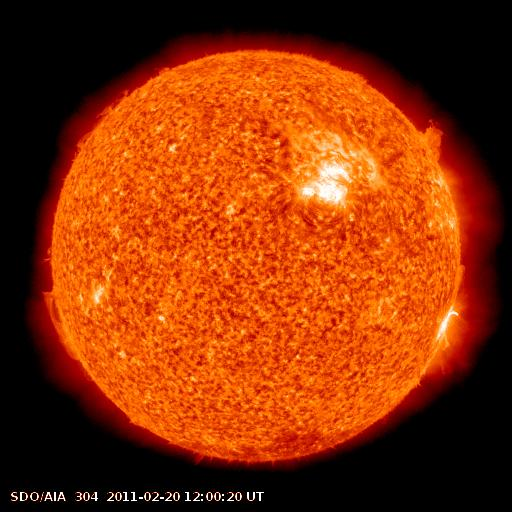prominence: (24, 276, 96, 375), (410, 99, 454, 172)
